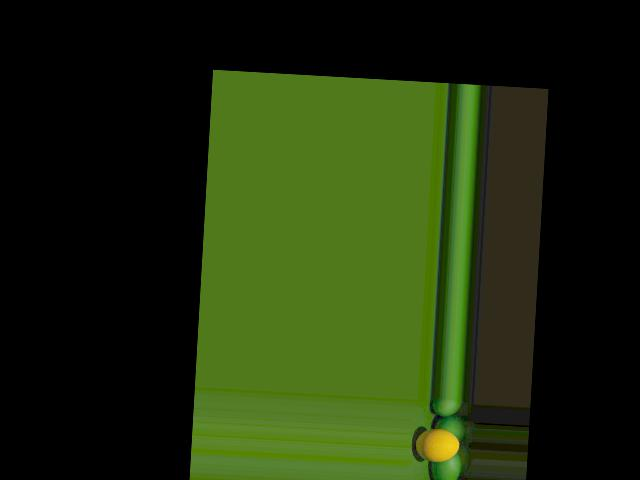egg: (414, 427, 459, 463)
